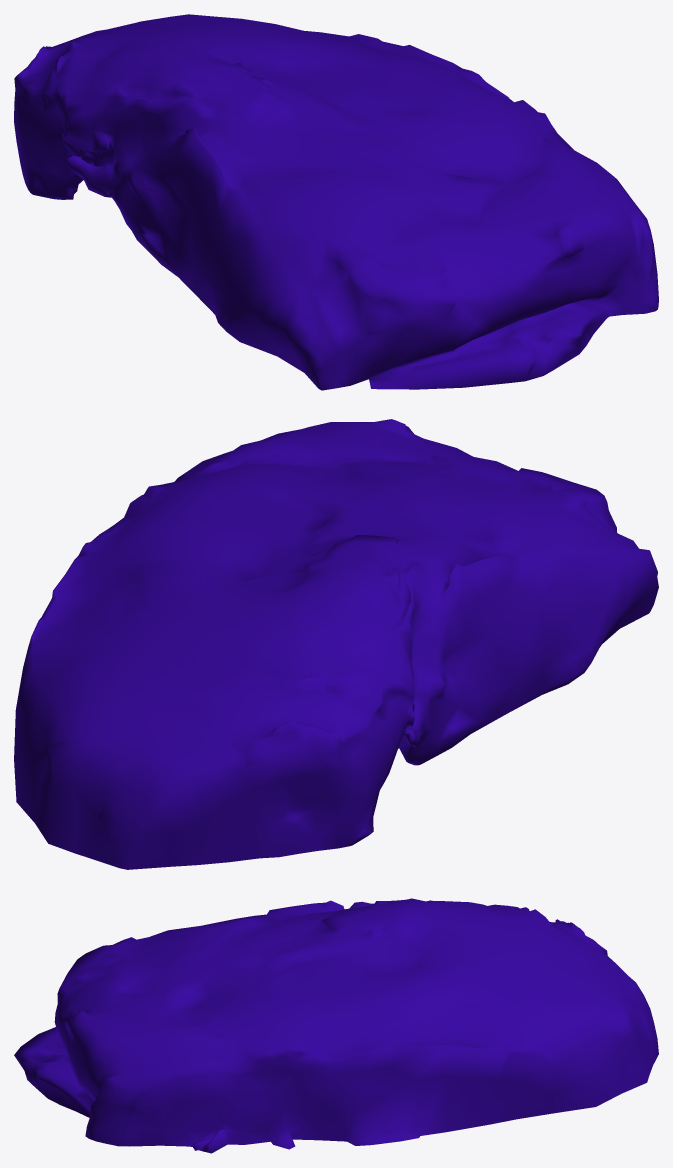
File: MSH_Rocks_Boulder_10.FBX
3 renders of one model, top to bottom at view 1: azimuth 30°, elevation 25°; view 2: azimuth 150°, elevation 25°; view 3: azimuth 270°, elevation 25°, orthographic. The views are drawn at different scales.
Visible parts, largest first — view 1: MESH_LOD0; view 2: MESH_LOD0; view 3: MESH_LOD0.
Boxes of the visible parts, x1,y1,x2,y2 form: MESH_LOD0: (14,14,658,390); MESH_LOD0: (14,419,658,869); MESH_LOD0: (14,898,658,1153).
Size of what is drawn, in the model's own units: 75.55 by 29.73 by 133.
